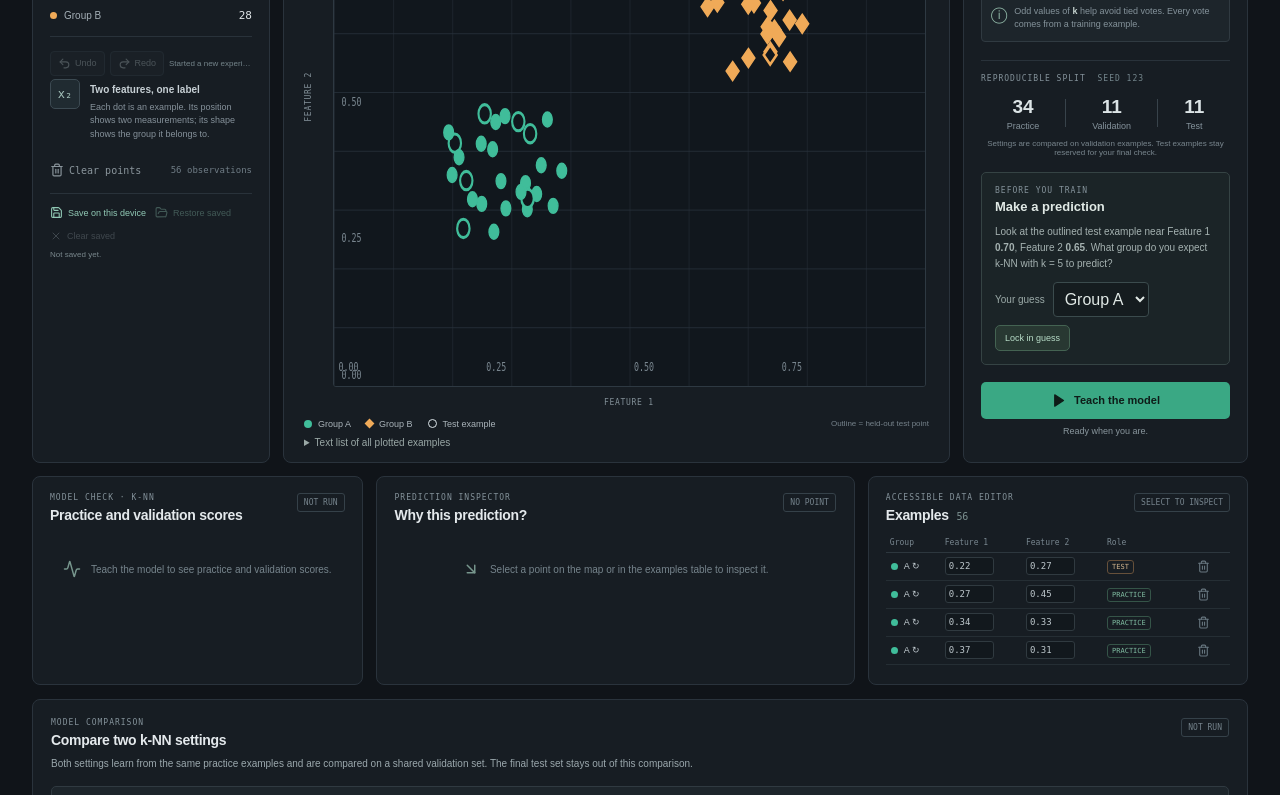
AI Playground workspace › offers an explicit empty inspector state, then explains a selected point by keyboard
The image size is (1280, 795).
(page scrolled)
Expected: the text "Select a point on the map or in the examples table" is shown, [490,564,768,575]
Click the button "Teach the model" at (1106,400), box [981,382,1230,419]
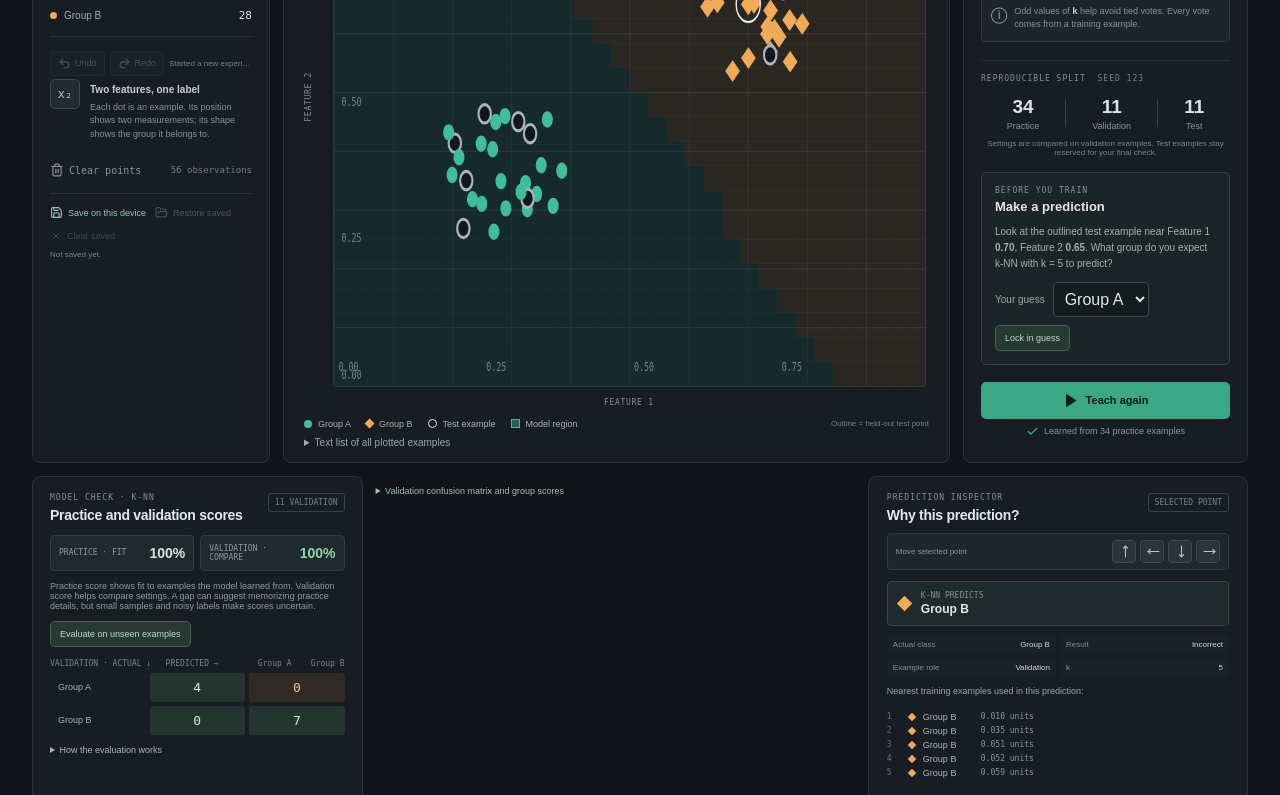
Press Enter in the button "test example", box [457,219,470,237]
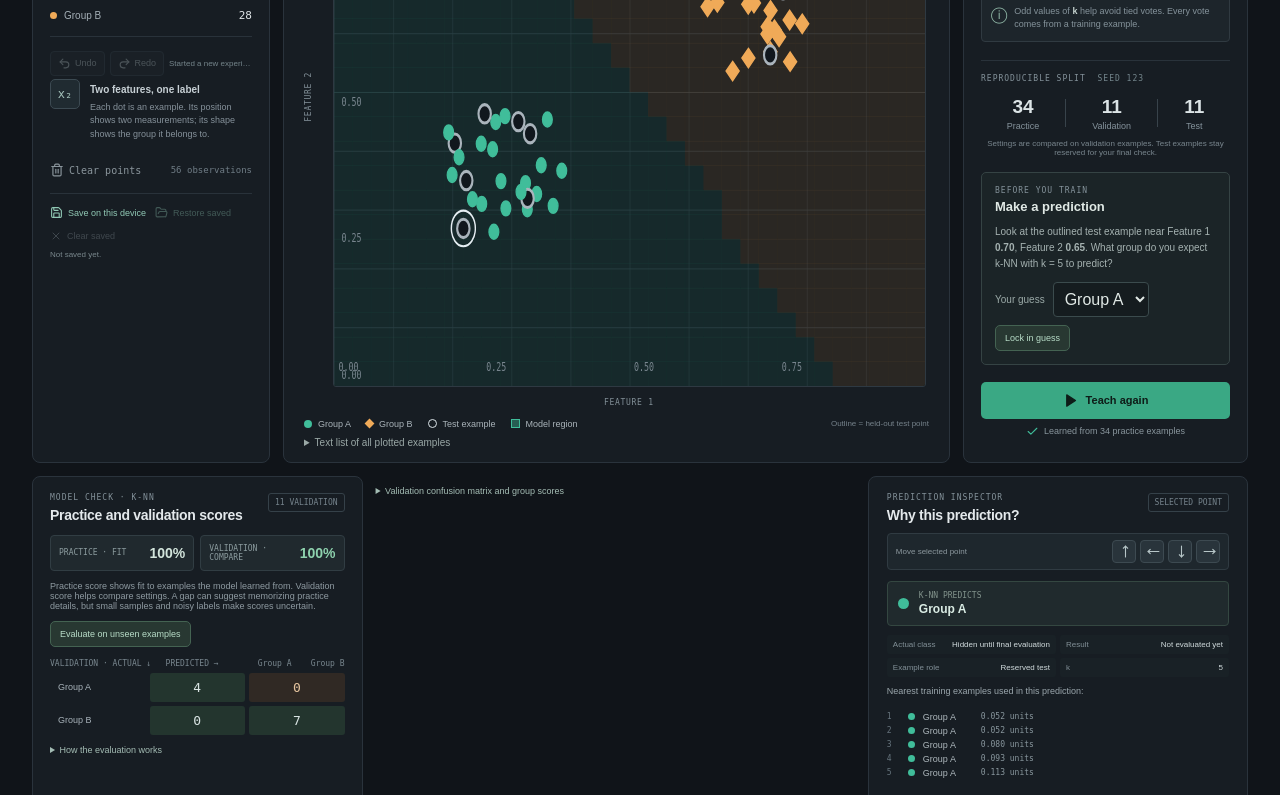
Expected: the text "Actual class" is shown, [893,640,936,649]
Expected: the text "Hidden until final evaluation" is shown, [952,640,1050,649]
Expected: the text "Reserved test" is shown, [1001,663,1050,672]
Click the button "Evaluate on unseen examples" at (120,634), box [50,621,191,647]
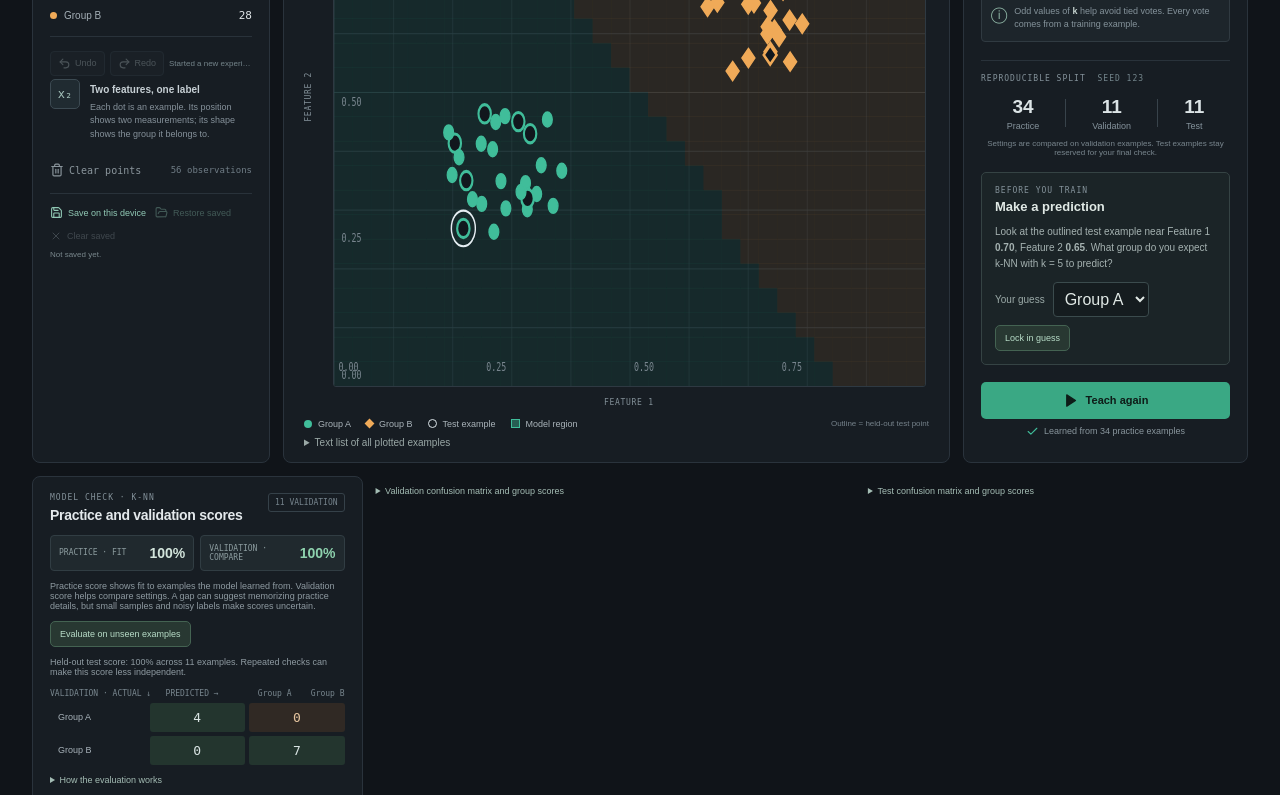
Expected: the text "Hidden until final evaluation" is gone
